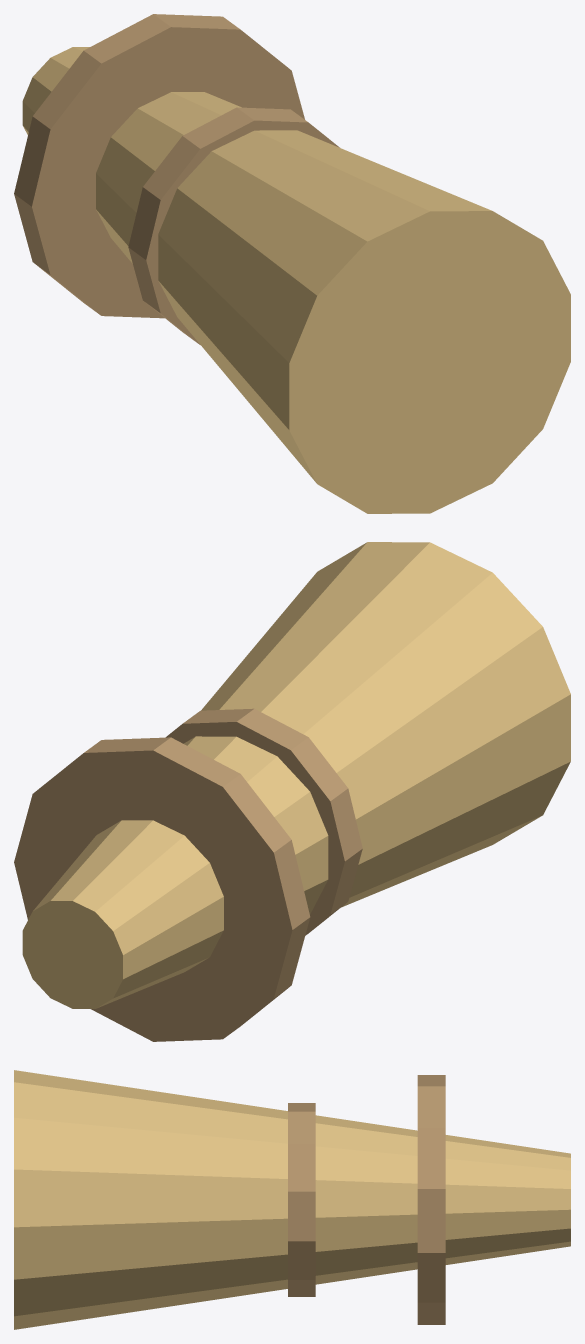
Rendered from SM_Weapon_RamHead_01.glb.
3 renders of one model, top to bottom at view 1: azimuth 30°, elevation 25°; view 2: azimuth 150°, elevation 25°; view 3: azimuth 270°, elevation 25°, orthographic. The views are drawn at different scales.
Parts seen in each view (by area): view 1: SM_Ram_Drill, SM_Ram_Ridge_0, SM_Ram_Ridge_1; view 2: SM_Ram_Drill, SM_Ram_Ridge_0, SM_Ram_Ridge_1; view 3: SM_Ram_Drill, SM_Ram_Ridge_0, SM_Ram_Ridge_1.
Part boxes in pixels (bbox=[...]): SM_Ram_Drill: bbox=[22, 47, 570, 513]; SM_Ram_Ridge_0: bbox=[14, 14, 304, 318]; SM_Ram_Ridge_1: bbox=[128, 107, 339, 344]; SM_Ram_Drill: bbox=[22, 542, 570, 1008]; SM_Ram_Ridge_0: bbox=[14, 737, 310, 1041]; SM_Ram_Ridge_1: bbox=[165, 708, 362, 935]; SM_Ram_Drill: bbox=[14, 1070, 570, 1329]; SM_Ram_Ridge_0: bbox=[417, 1075, 445, 1324]; SM_Ram_Ridge_1: bbox=[288, 1103, 315, 1296].
Bounding box in the file's own units: 0.273 × 0.28 × 0.6.
